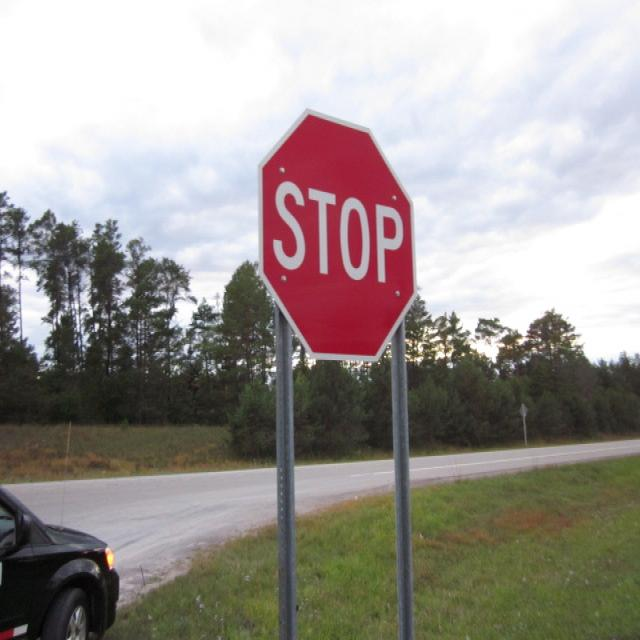stop: (254, 101, 419, 366)
